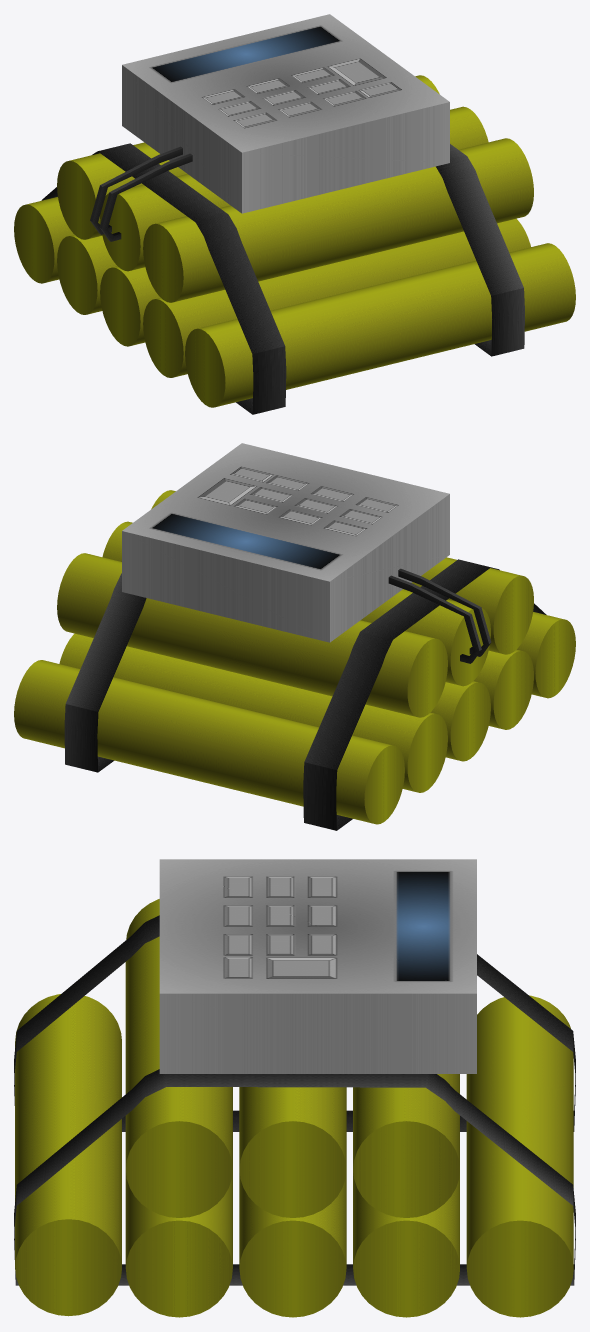
File: bomb.fbx
The picture shows the model from 3 angles, top to bottom: view 1: azimuth 30°, elevation 25°; view 2: azimuth 150°, elevation 25°; view 3: azimuth 270°, elevation 25°; orthographic projection. The views are drawn at different scales.
Visible parts, largest first — view 1: Cube; view 2: Cube; view 3: Cube.
Boxes of the visible parts, bbox=[...] form: Cube: bbox=[14, 14, 575, 414]; Cube: bbox=[14, 443, 575, 830]; Cube: bbox=[14, 859, 575, 1317].
Size of the model in its own units: 118 by 64.53 by 118.
Materials: 1 (1 with a texture image).
